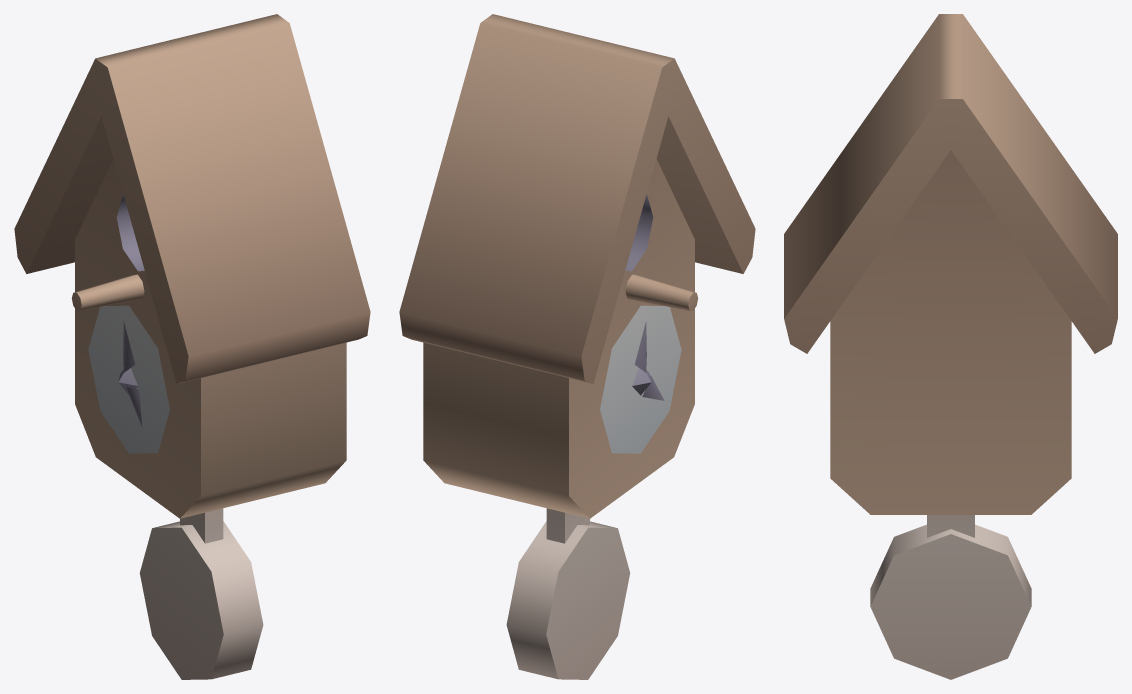
Rendered from clock-cuckoo (%wall).glb.
3 views of the same model, side by side, from view 1: azimuth 30°, elevation 25°; view 2: azimuth 150°, elevation 25°; view 3: azimuth 270°, elevation 25° (orthographic). The views are drawn at different scales.
Parts seen in each view (by area): view 1: clock-cuckoo (%wall); view 2: clock-cuckoo (%wall); view 3: clock-cuckoo (%wall).
Part boxes in pixels (x1,y1,x2,y2): clock-cuckoo (%wall): (14, 14, 370, 679); clock-cuckoo (%wall): (399, 14, 755, 679); clock-cuckoo (%wall): (784, 14, 1117, 679).
Size of the model in its own units: 0.284 by 0.8357 by 0.4146.
